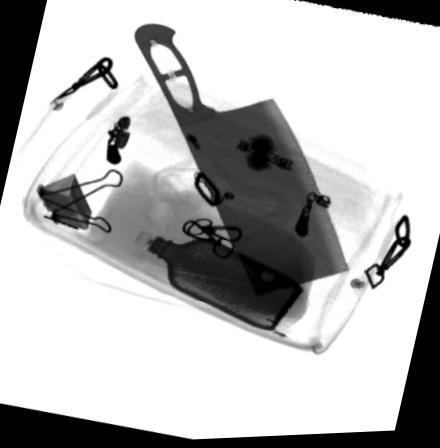Knife: (132, 23, 351, 299)
